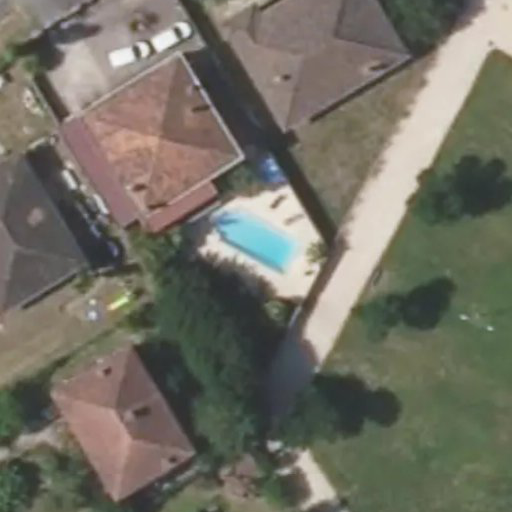pool: (201, 234, 303, 243)
